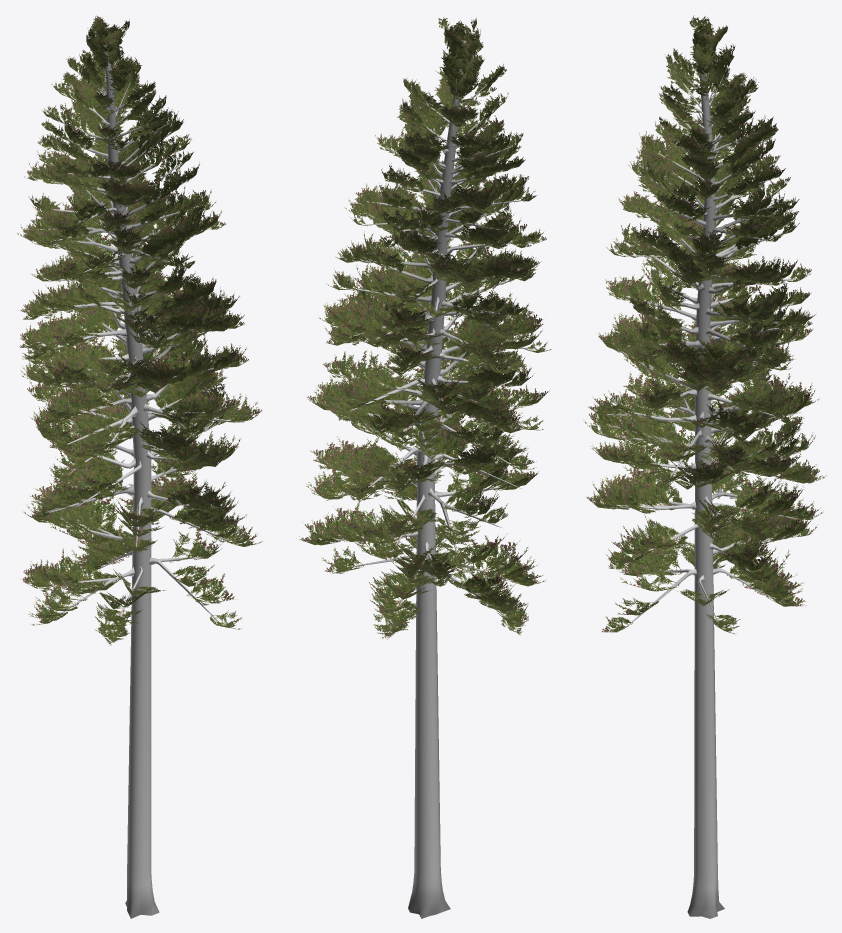
File: RedCedar_Tall_mdl.fbx
3 views of the same model, side by side, from view 1: azimuth 30°, elevation 25°; view 2: azimuth 150°, elevation 25°; view 3: azimuth 270°, elevation 25° (orthographic). The views are drawn at different scales.
Visible parts, largest first — view 1: RedCedar_Tall_LOD0; view 2: RedCedar_Tall_LOD0; view 3: RedCedar_Tall_LOD0.
Boxes of the visible parts, x1=… form: RedCedar_Tall_LOD0: x1=17, y1=15, x2=262, y2=918; RedCedar_Tall_LOD0: x1=296, y1=17, x2=551, y2=918; RedCedar_Tall_LOD0: x1=583, y1=15, x2=826, y2=918.
Bounding box in the file's own units: 893 × 3452 × 878.
